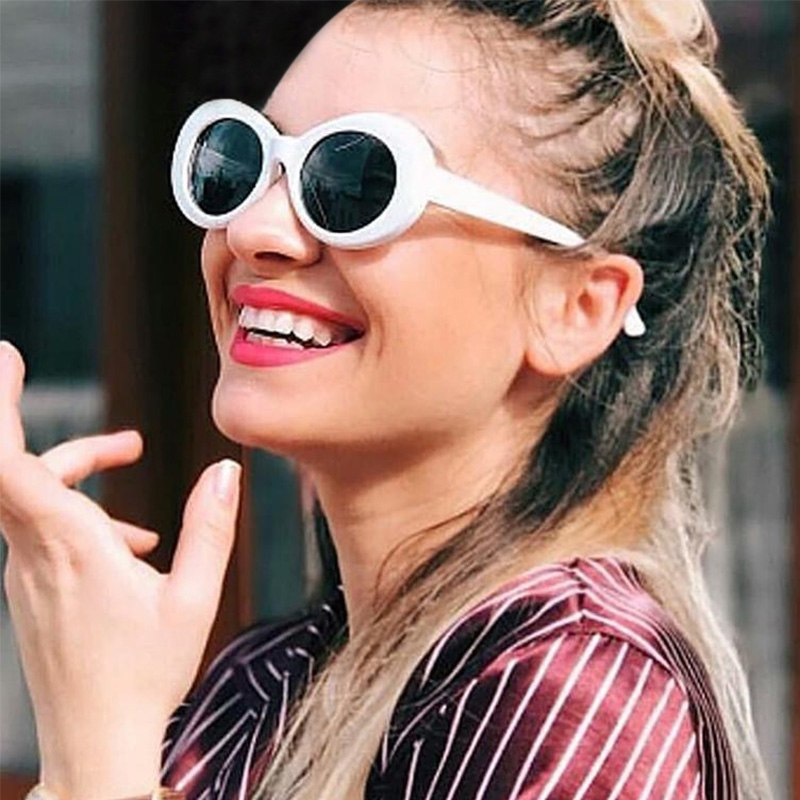sunglasses: (125, 95, 684, 328)
